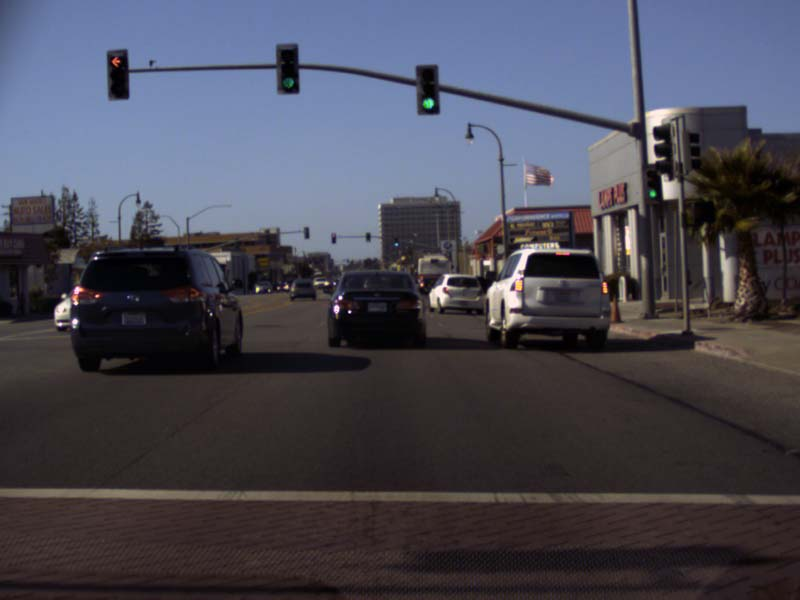Green: (415, 64, 439, 113), (276, 44, 299, 94), (644, 165, 659, 202), (393, 237, 398, 247)
Red: (107, 49, 129, 99), (330, 232, 334, 242)
